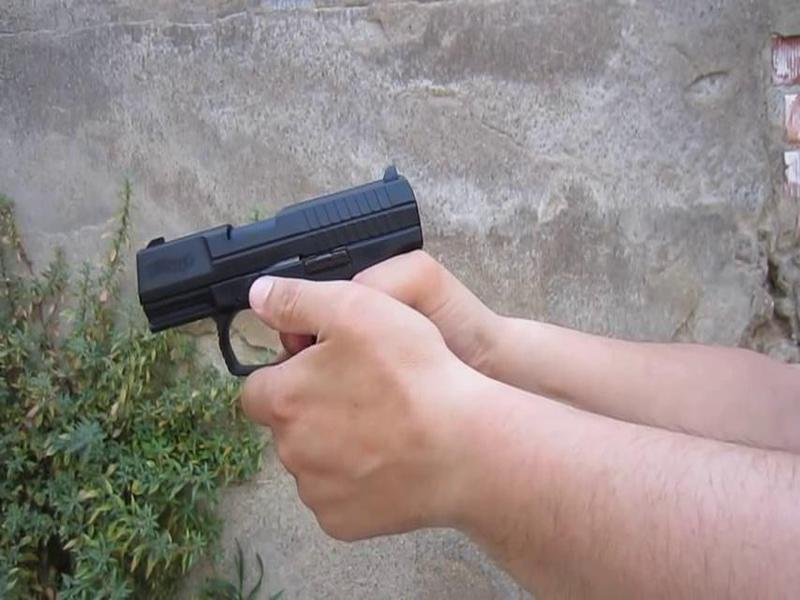Pistola: (117, 161, 440, 367)
